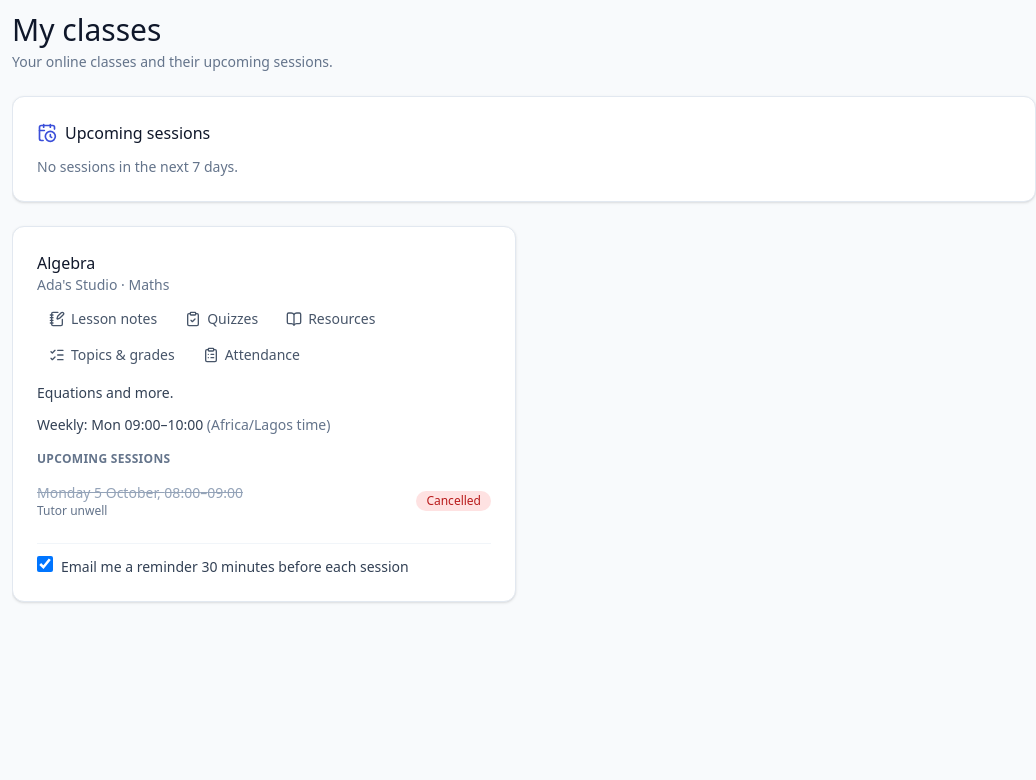
online classes views › puts the reminder toggle back when saving fails
Click the checkbox labelled "Email me a reminder 30 minutes before each session".
click(45, 564)  # box [37,556,53,572]
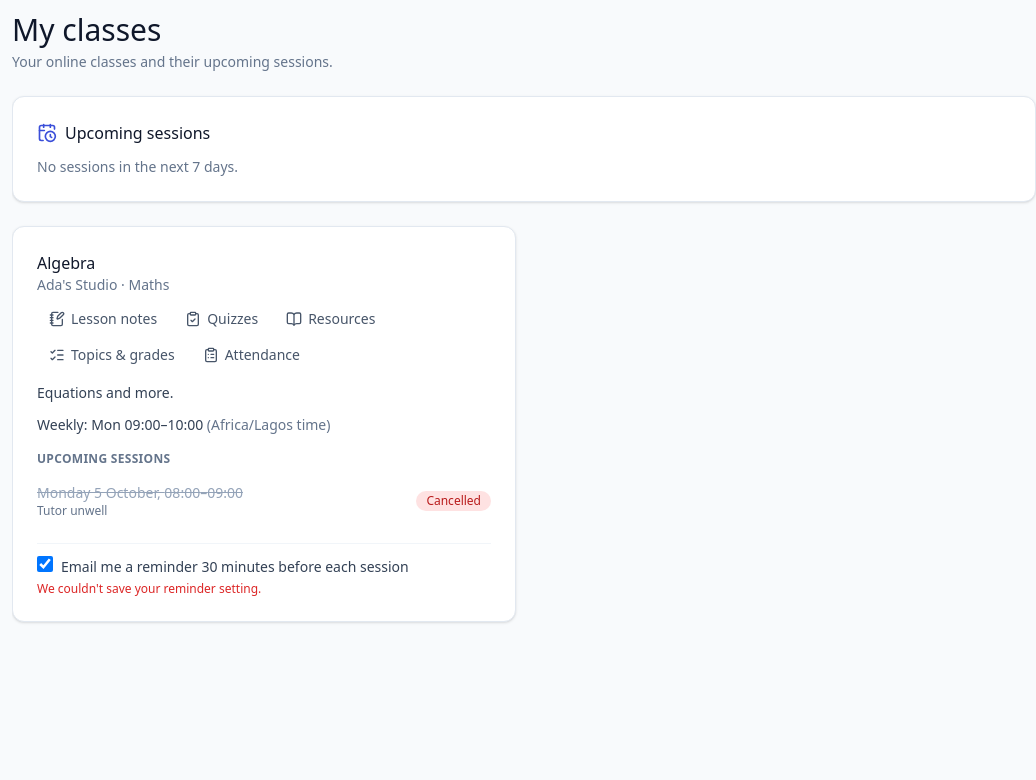
Result: the message "We couldn't save your reminder setting." is shown at [37,580,261,597]
